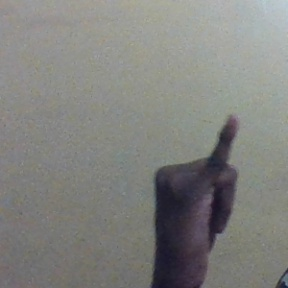I: (152, 114, 243, 254)
